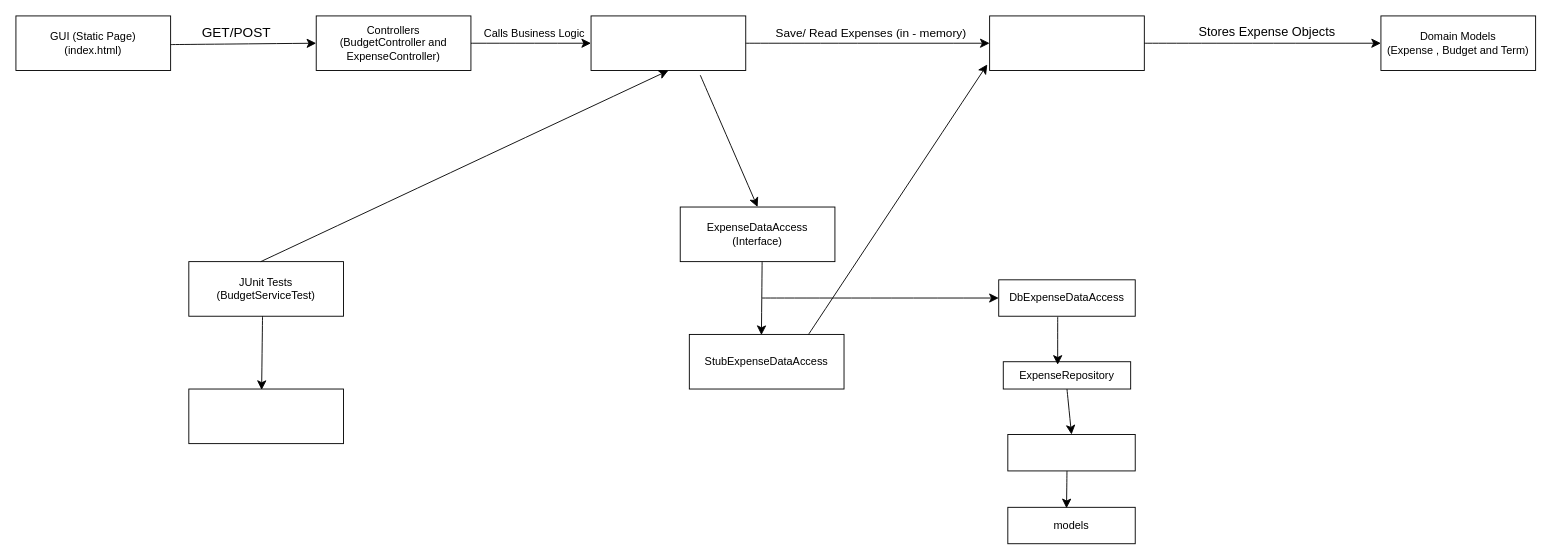
This 1552x560 diagram has some shape labels left out. The shapes that lost their labels are listed below. From the top down, each one's centre as x and y in pixels, then its label:
At (668,43): "Service (BudgetService)".
At (1066,43): "Stub Data Store (ExpenseStore and InMemoryExpenseStore)".
At (266,416): "(BudgetService)".
At (1071,452): "PostgreSQL".
